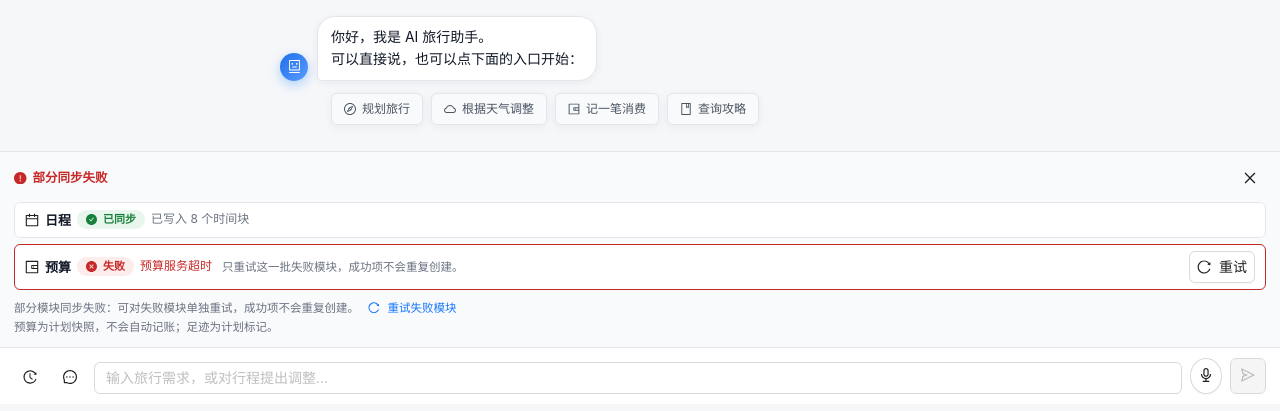
Scenario: ChatPanel · V2.2 过程时间线与同步结果面板 › 关闭同步结果面板后不再渲染
The image size is (1280, 411).
What coordinates should you click on to do the following:
click the button named "关闭同步结果面板"
I would click on:
 (1250, 178)
Its box is [1234,162,1266,194].
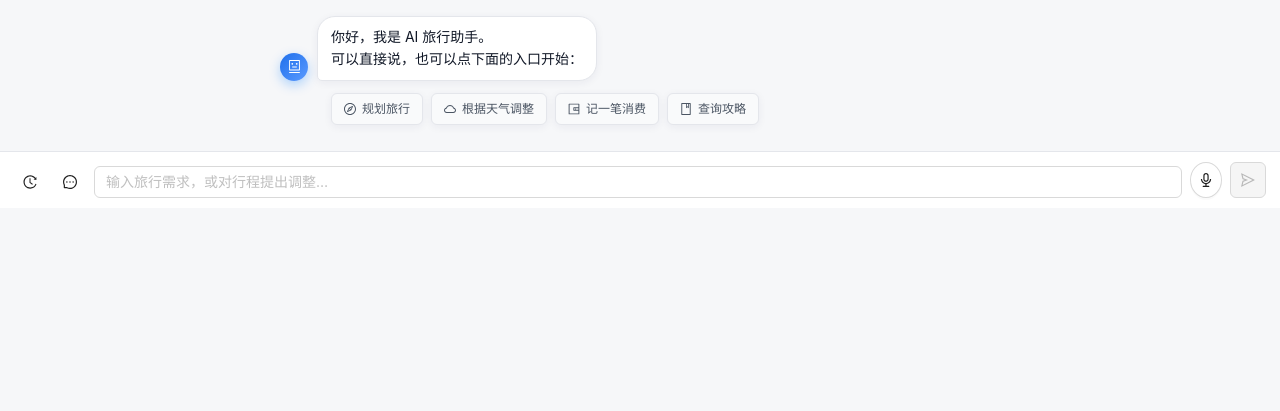
Expected: the element with test id "execution-result-panel" is gone
